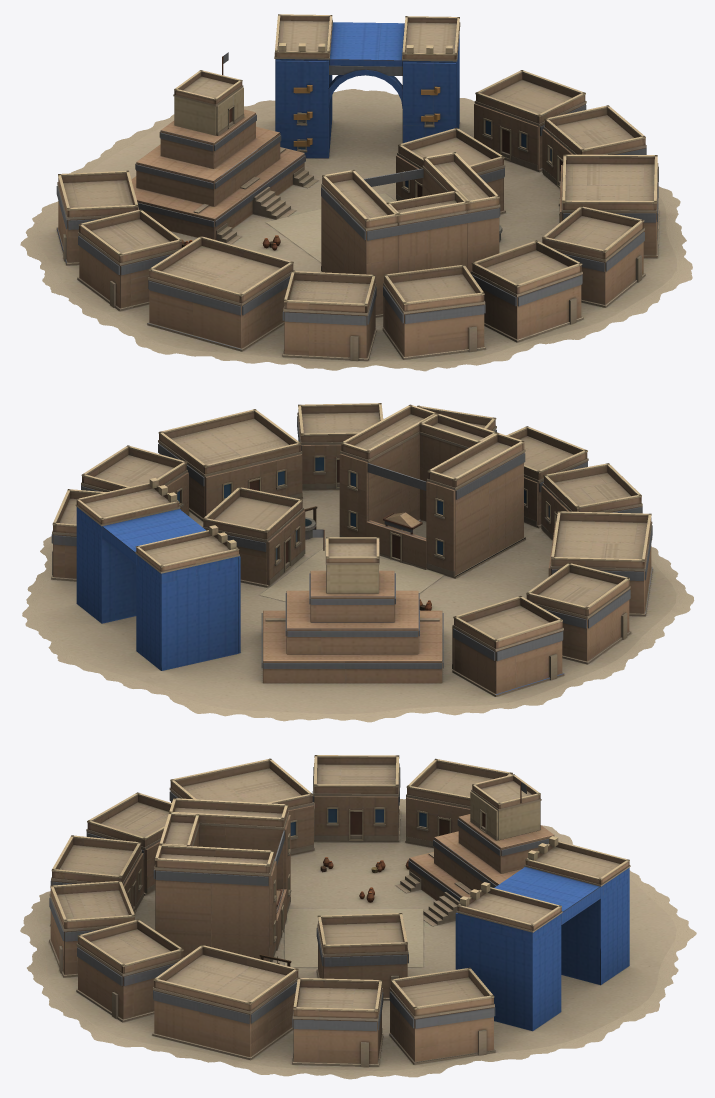
The model's file is bronze-town-medium-a-levant.glb.
The picture shows the model from 3 angles, top to bottom: view 1: azimuth 30°, elevation 25°; view 2: azimuth 150°, elevation 25°; view 3: azimuth 270°, elevation 25°; orthographic projection.
Parts seen in each view (by area): view 1: LOD0; view 2: LOD0; view 3: LOD0.
Part boxes in pixels (bbox=[...]): LOD0: bbox=[20, 14, 692, 371]; LOD0: bbox=[22, 403, 694, 722]; LOD0: bbox=[20, 755, 696, 1079].
Size of what is drawn, in the model's own units: 5.93 by 1.28 by 5.97.
Materials: 3 (3 with a texture image).
